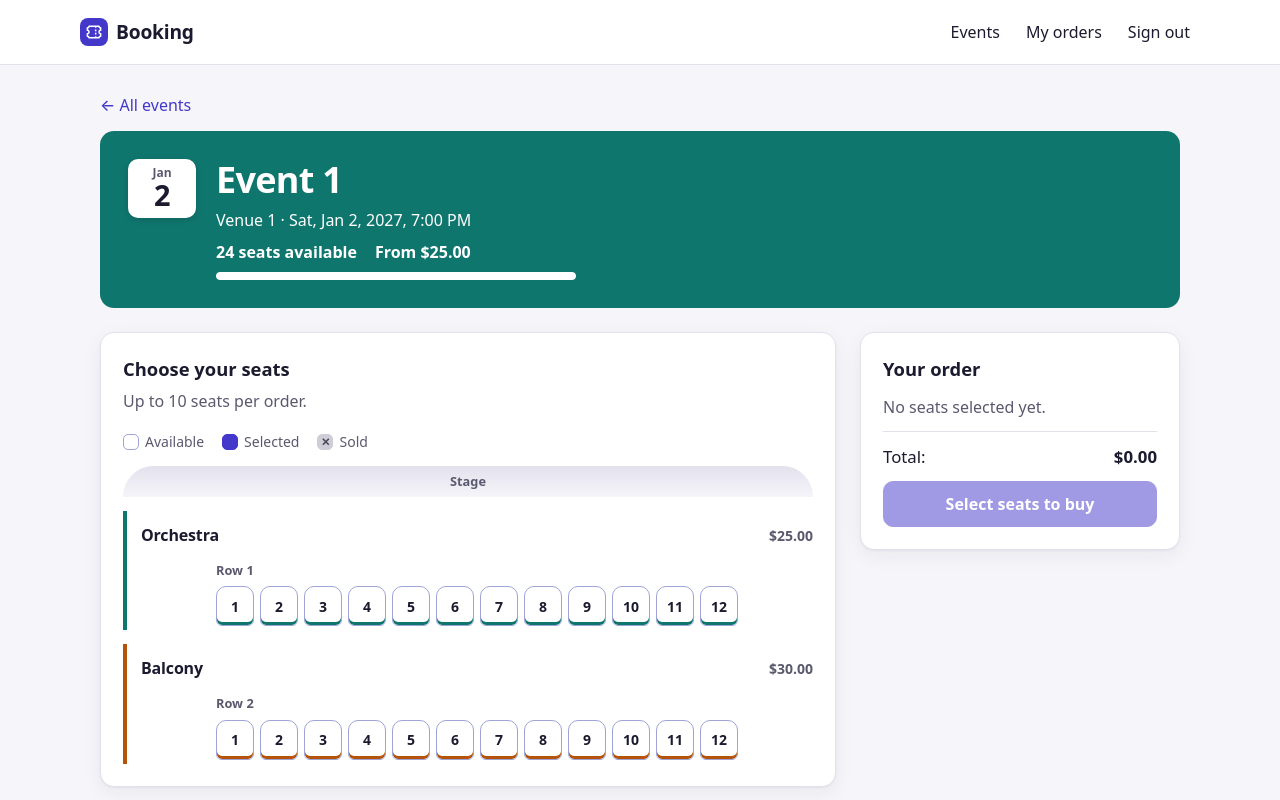
Test case: EventPage › tells you to wait when rate limited
Click the button named "Seat R1-1,". click: {"x": 235, "y": 606}
box: [216,586,254,626]
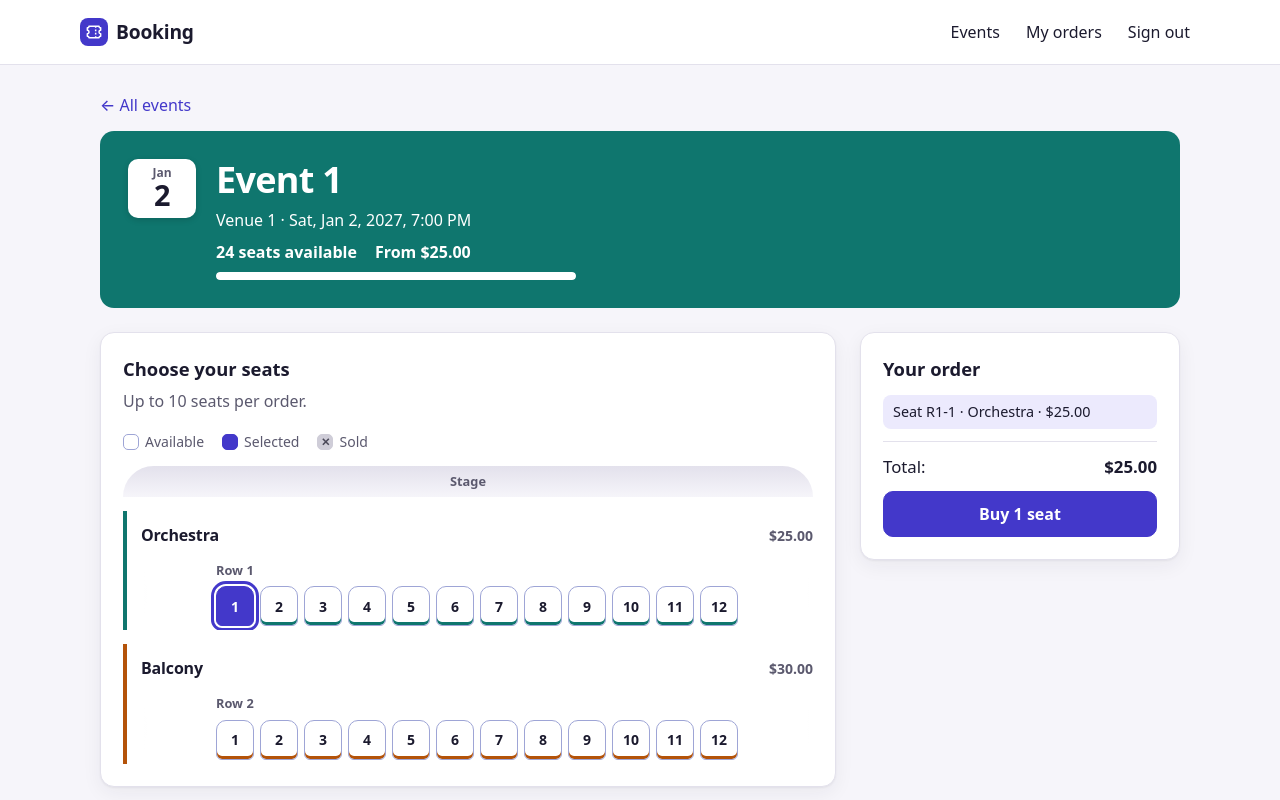
Click the button "Buy 1 seat". click: {"x": 1020, "y": 514}
box: [883,491,1157,537]
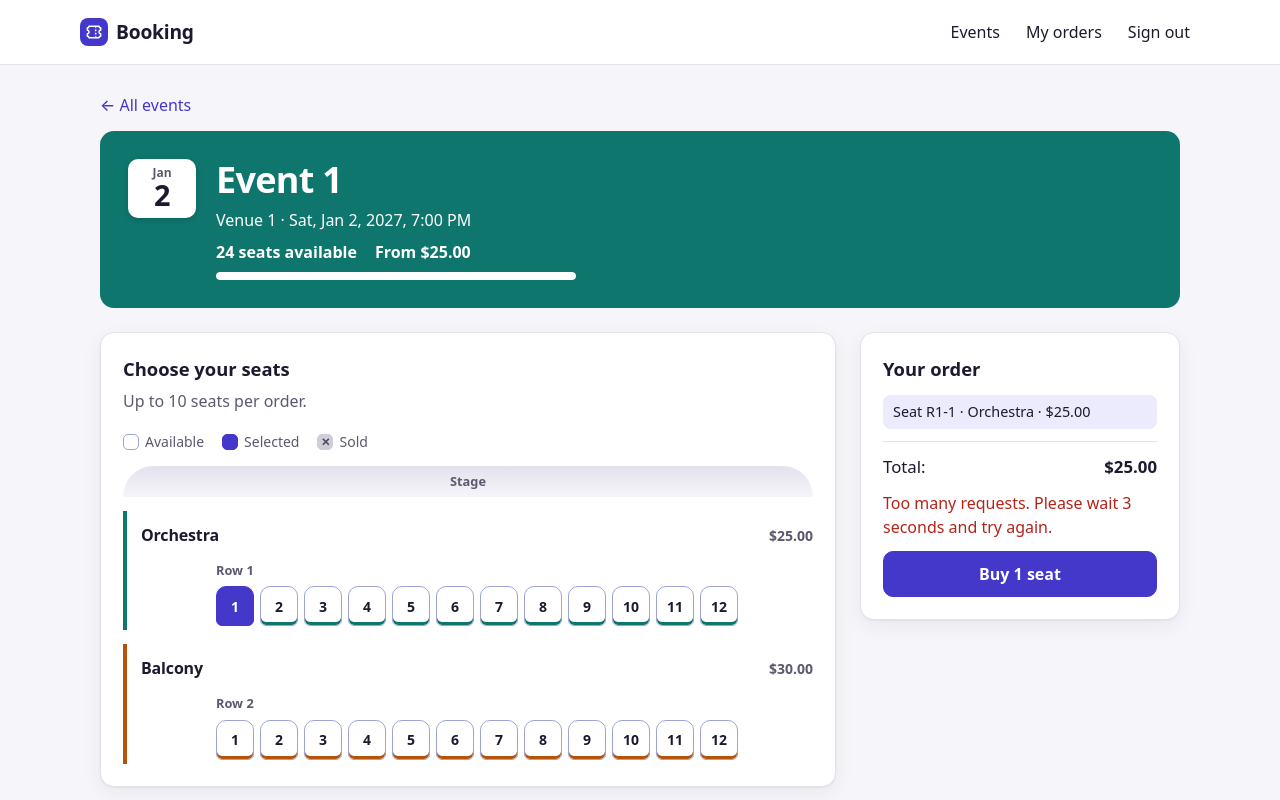
Expected: the text with test id "order-total" reads "$25.00", [1104,455,1157,478]
Expected: the message shows "Please wait 3 seconds", [883,492,1132,538]
